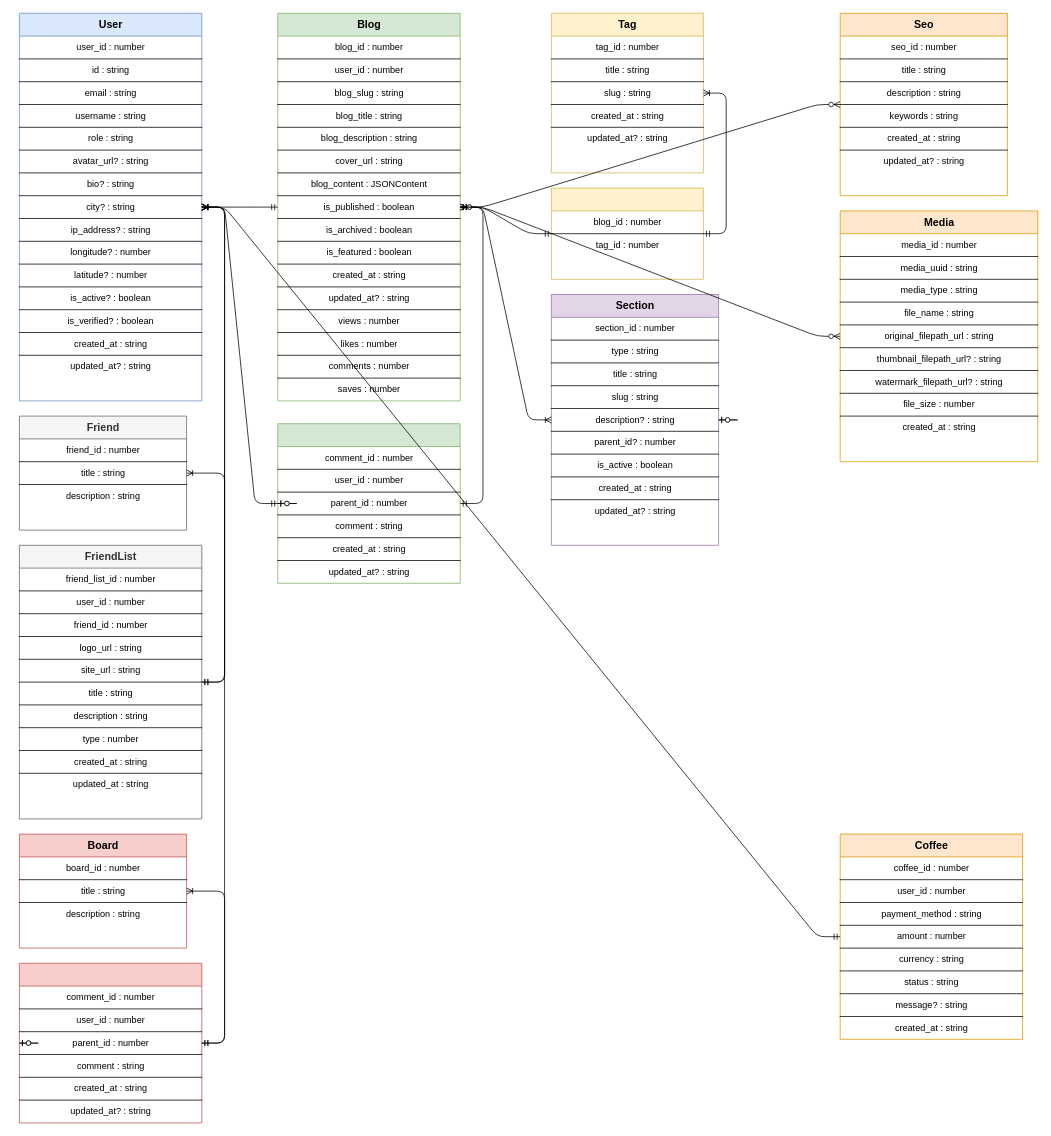
Image size: 1051x1136. Some labels were removed from this diagram. Here are the shapes that lost their labels. From the top down, the box of each, then its label:
(551, 187, 703, 279): BlogTag
(277, 423, 460, 583): BlogComment
(19, 963, 202, 1123): BoardComment
